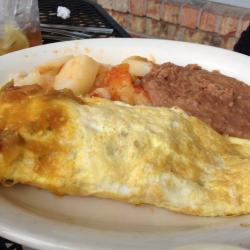omelette: (3, 89, 247, 217)
